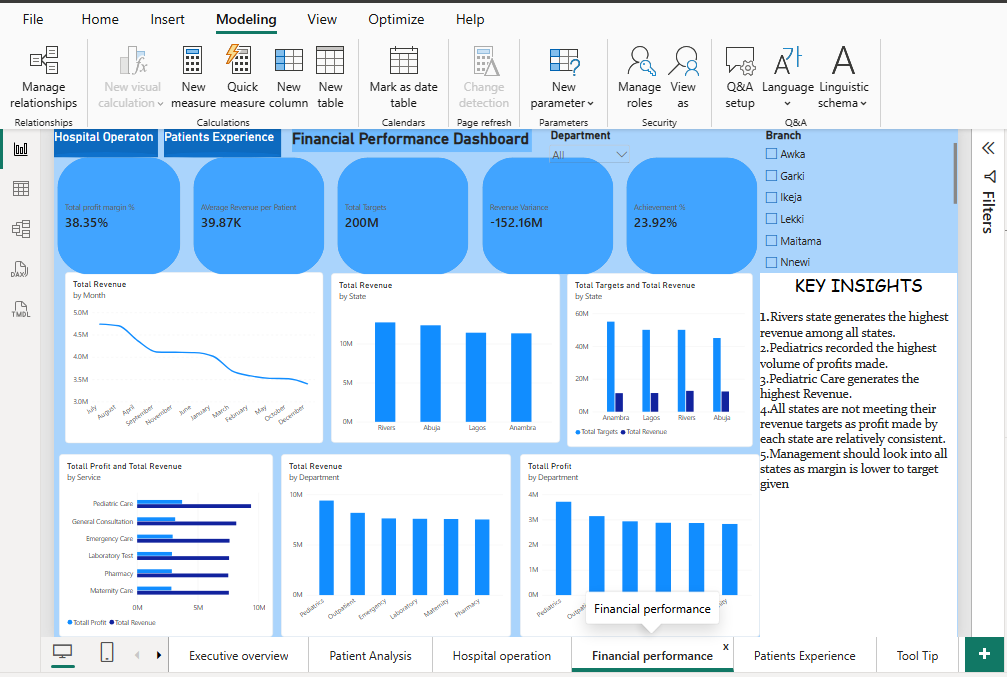

This screenshot's page, from the dashboard's own definition file:
{"tool":"powerbi","page":{"name":"Financial performance","canvas":[1920,1080],"ordinal":3},"visuals":[{"type":"cardVisual","fields":{"Data":["Date_Table.Total profit margin %"]},"box":[6.8,59.4,263.6,250.9],"z":0,"group":"g1"},{"type":"clusteredColumnChart","fields":{"Category":["State_Targets.State"],"Y":["Patient_Visits.Total Revenue"]},"box":[588.9,306.1,486.9,361.4],"z":0},{"type":"cardVisual","fields":{"Data":["Date_Table.Total Targets"]},"box":[603.1,59.4,280.6,250.9],"z":1000,"group":"g1"},{"type":"clusteredColumnChart","fields":{"Category":["Patient_Visits.Department"],"Y":["Patient_Visits.Total Revenue"]},"box":[482.6,690.9,489,389.1],"z":1000},{"type":"cardVisual","fields":{"Data":["Date_Table.Revenue Variance"]},"box":[909.8,59.4,280.6,250.9],"z":2000,"group":"g1"},{"type":"clusteredBarChart","fields":{"Category":["Patient_Visits.Service"],"Y":["Date_Table.Totall Profit","Patient_Visits.Total Revenue"]},"box":[10.6,690.9,455,389.1],"z":2000},{"type":"cardVisual","fields":{"Data":["Date_Table.Achievement %"]},"box":[1216.5,59.4,280.6,250.9],"z":3000,"group":"g1"},{"type":"clusteredColumnChart","fields":{"Category":["Patient_Visits.Department"],"Y":["Date_Table.Totall Profit"]},"box":[990.7,690.9,510.2,389.1],"z":3000},{"type":"cardVisual","fields":{"Data":["Date_Table.AVerage Revenue per Patient"]},"box":[296.5,59.4,280.6,250.9],"z":4000,"group":"g1"},{"type":"lineChart","fields":{"Category":["Date_Table.Month"],"Y":["Patient_Visits.Total Revenue"]},"box":[22.7,304.9,548.5,363.5],"z":4000},{"type":"lineClusteredColumnComboChart","fields":{"Category":["State_Targets.State"],"Y":["Date_Table.Total Targets","Patient_Visits.Total Revenue"]},"box":[1090.6,306.1,395.4,369.9],"z":5000},{"type":"group","id":"g1","title":"Group 1","box":[6.8,59.4,1490.3,250.9],"z":6000},{"type":"textbox","box":[1530.7,46.8,367.8,48.9],"z":7000},{"type":"textbox","title":"Financial Performance Dashboard","box":[506,0,510.2,48.9],"z":8000},{"type":"actionButton","title":"Hospital Operaton","box":[0,0,221.1,59.5],"z":9000},{"type":"actionButton","title":"Patients Experience","box":[233.9,0,248.7,59.5],"z":10000},{"type":"slicer","fields":{"Values":["Patient_Visits.Department"]},"box":[1048.1,0,180.7,72.3],"z":11000},{"type":"slicer","fields":{"Values":["Patient_Visits.Branch"]},"box":[1505.2,0,414.6,297.6],"z":12000},{"type":"textbox","title":"KEY INSIGHTS","box":[1500.9,306.1,418.8,773.9],"z":13000}]}

Visuals, with their boxes on the page's 1920x1080 design canvas (x1, y1, x2, y2). These are canvas units, not pixel positions in the 1007x677 screenshot, which may show the page scaled, cropped or inside an application window:
cardVisual - Date_Table.Total profit margin %: left=7, top=59, right=270, bottom=310
clusteredColumnChart - State_Targets.State x Patient_Visits.Total Revenue: left=589, top=306, right=1076, bottom=668
cardVisual - Date_Table.Total Targets: left=603, top=59, right=884, bottom=310
clusteredColumnChart - Patient_Visits.Department x Patient_Visits.Total Revenue: left=483, top=691, right=972, bottom=1080
cardVisual - Date_Table.Revenue Variance: left=910, top=59, right=1190, bottom=310
clusteredBarChart - Patient_Visits.Service x Date_Table.Totall Profit: left=11, top=691, right=466, bottom=1080
cardVisual - Date_Table.Achievement %: left=1216, top=59, right=1497, bottom=310
clusteredColumnChart - Patient_Visits.Department x Date_Table.Totall Profit: left=991, top=691, right=1501, bottom=1080
cardVisual - Date_Table.AVerage Revenue per Patient: left=296, top=59, right=577, bottom=310
lineChart - Date_Table.Month x Patient_Visits.Total Revenue: left=23, top=305, right=571, bottom=668
lineClusteredColumnComboChart - State_Targets.State x Date_Table.Total Targets: left=1091, top=306, right=1486, bottom=676
"Group 1" group: left=7, top=59, right=1497, bottom=310
textbox: left=1531, top=47, right=1898, bottom=96
"Financial Performance Dashboard" textbox: left=506, top=0, right=1016, bottom=49
"Hospital Operaton" actionButton: left=0, top=0, right=221, bottom=60
"Patients Experience" actionButton: left=234, top=0, right=483, bottom=60
slicer - Patient_Visits.Department: left=1048, top=0, right=1229, bottom=72
slicer - Patient_Visits.Branch: left=1505, top=0, right=1920, bottom=298
"KEY INSIGHTS" textbox: left=1501, top=306, right=1920, bottom=1080
